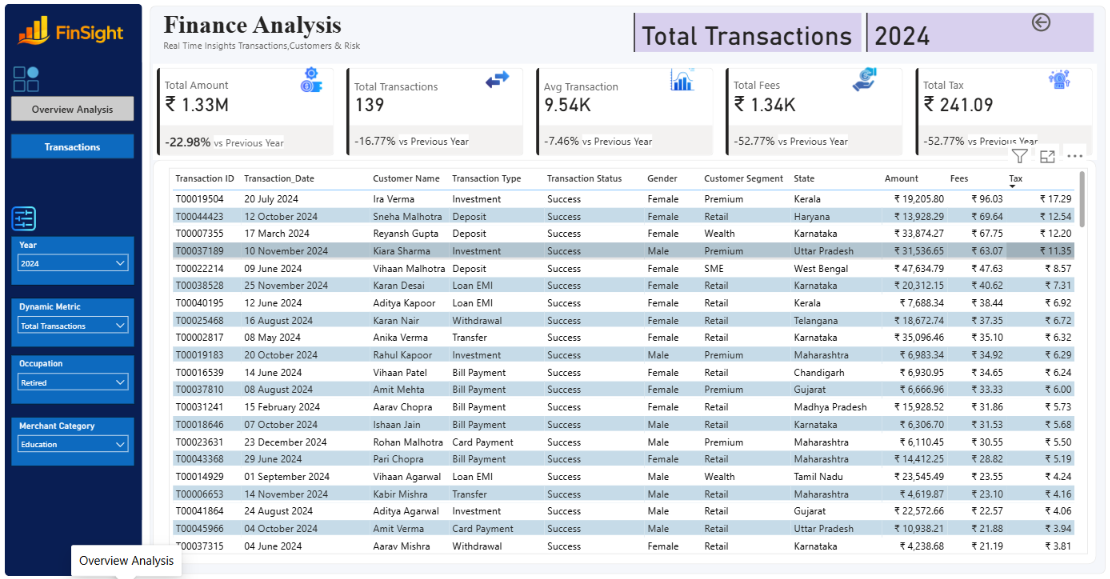

What the dashboard file says about the page in this screenshot:
{"tool":"powerbi","page":{"name":"Transactions","canvas":[1800,950],"ordinal":1},"visuals":[{"type":"shape","box":[246.7,15,1542,916.7],"z":0},{"type":"shape","box":[13.3,11.7,221.7,923.3],"z":1000},{"type":"image","box":[13.3,15,215,80],"z":2000},{"type":"cardVisual","fields":{"Data":["finance_transactions.Dashboard Title"]},"box":[251.8,14.7,452.9,80.1],"z":3000},{"type":"cardVisual","fields":{"Data":["finance_transactions.Total Amount","Calendar.Total Transactions","Calendar.Avg Transaction","Calendar.Total Fees","Calendar.Total Tax"]},"box":[251.7,108.1,1523.1,154.9],"z":4000},{"type":"image","box":[482.4,107.9,50.7,50.7],"z":5000},{"type":"image","box":[783.3,107.9,50.7,50.7],"z":6000},{"type":"image","box":[1375.2,107.9,50.7,50.7],"z":7000},{"type":"image","box":[1689.1,107.9,50.7,50.7],"z":8000},{"type":"image","box":[1080.9,107.9,50.7,50.7],"z":9000},{"type":"cardVisual","fields":{"Data":["Calendar.Selected Dynamic Measure","Calendar.Selected Year"]},"box":[1022.9,21,752.2,73.6],"z":10000},{"type":"shape","box":[251.8,263.3,1522.4,652.4],"z":11000},{"type":"tableEx","fields":{"Values":["finance_transactions.transaction_id","finance_transactions.transaction_date","customers.Full Name","finance_transactions.transaction_type","finance_transactions.transaction_status","customers.gender","customers.customer_segment","customers.state","finance_transactions.Total Amount","Calendar.Total Fees","Calendar.Total Tax"]},"box":[278,276.3,1483.1,623],"z":12000},{"type":"actionButton","box":[1664.6,21.3,100,40],"z":13000},{"type":"slicer","fields":{"Values":["Calendar.Year"]},"box":[22.9,385.9,200,80],"z":14000},{"type":"slicer","fields":{"Values":["Dynamic Metric.Dynamic Metric"]},"box":[22.9,485.6,200,80],"z":15000},{"type":"slicer","fields":{"Values":["finance_transactions.merchant_category"]},"box":[22.9,677,200,80],"z":16000},{"type":"slicer","fields":{"Values":["customers.occupation"]},"box":[22.9,577.2,200,80],"z":17000},{"type":"pageNavigator","box":[22.9,160.2,199.5,103],"z":18000},{"type":"image","box":[22.9,107.9,50.7,50.7],"z":19000},{"type":"image","box":[22.9,335.2,50.7,50.7],"z":20000}]}

Visuals, with their boxes on the page's 1800x950 design canvas (x1, y1, x2, y2). These are canvas units, not pixel positions in the 1110x579 screenshot, which may show the page scaled, cropped or inside an application window:
shape: 247 15 1789 932
shape: 13 12 235 935
image: 13 15 228 95
cardVisual - finance_transactions.Dashboard Title: 252 15 705 95
cardVisual - finance_transactions.Total Amount x Calendar.Total Transactions: 252 108 1775 263
image: 482 108 533 159
image: 783 108 834 159
image: 1375 108 1426 159
image: 1689 108 1740 159
image: 1081 108 1132 159
cardVisual - Calendar.Selected Dynamic Measure x Calendar.Selected Year: 1023 21 1775 95
shape: 252 263 1774 916
tableEx - finance_transactions.transaction_id x finance_transactions.transaction_date: 278 276 1761 899
actionButton: 1665 21 1765 61
slicer - Calendar.Year: 23 386 223 466
slicer - Dynamic Metric.Dynamic Metric: 23 486 223 566
slicer - finance_transactions.merchant_category: 23 677 223 757
slicer - customers.occupation: 23 577 223 657
pageNavigator: 23 160 222 263
image: 23 108 74 159
image: 23 335 74 386
